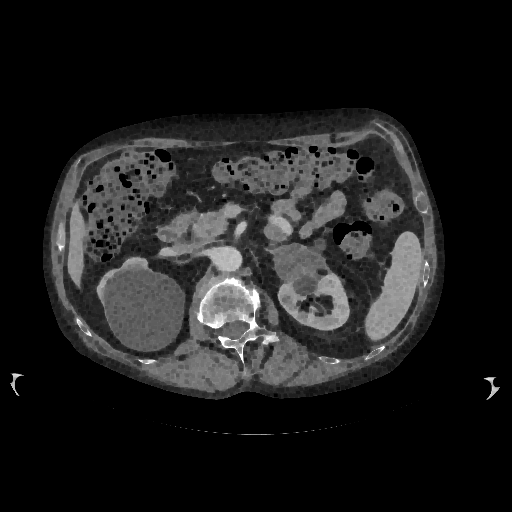Lesion: (264, 240, 338, 285)
